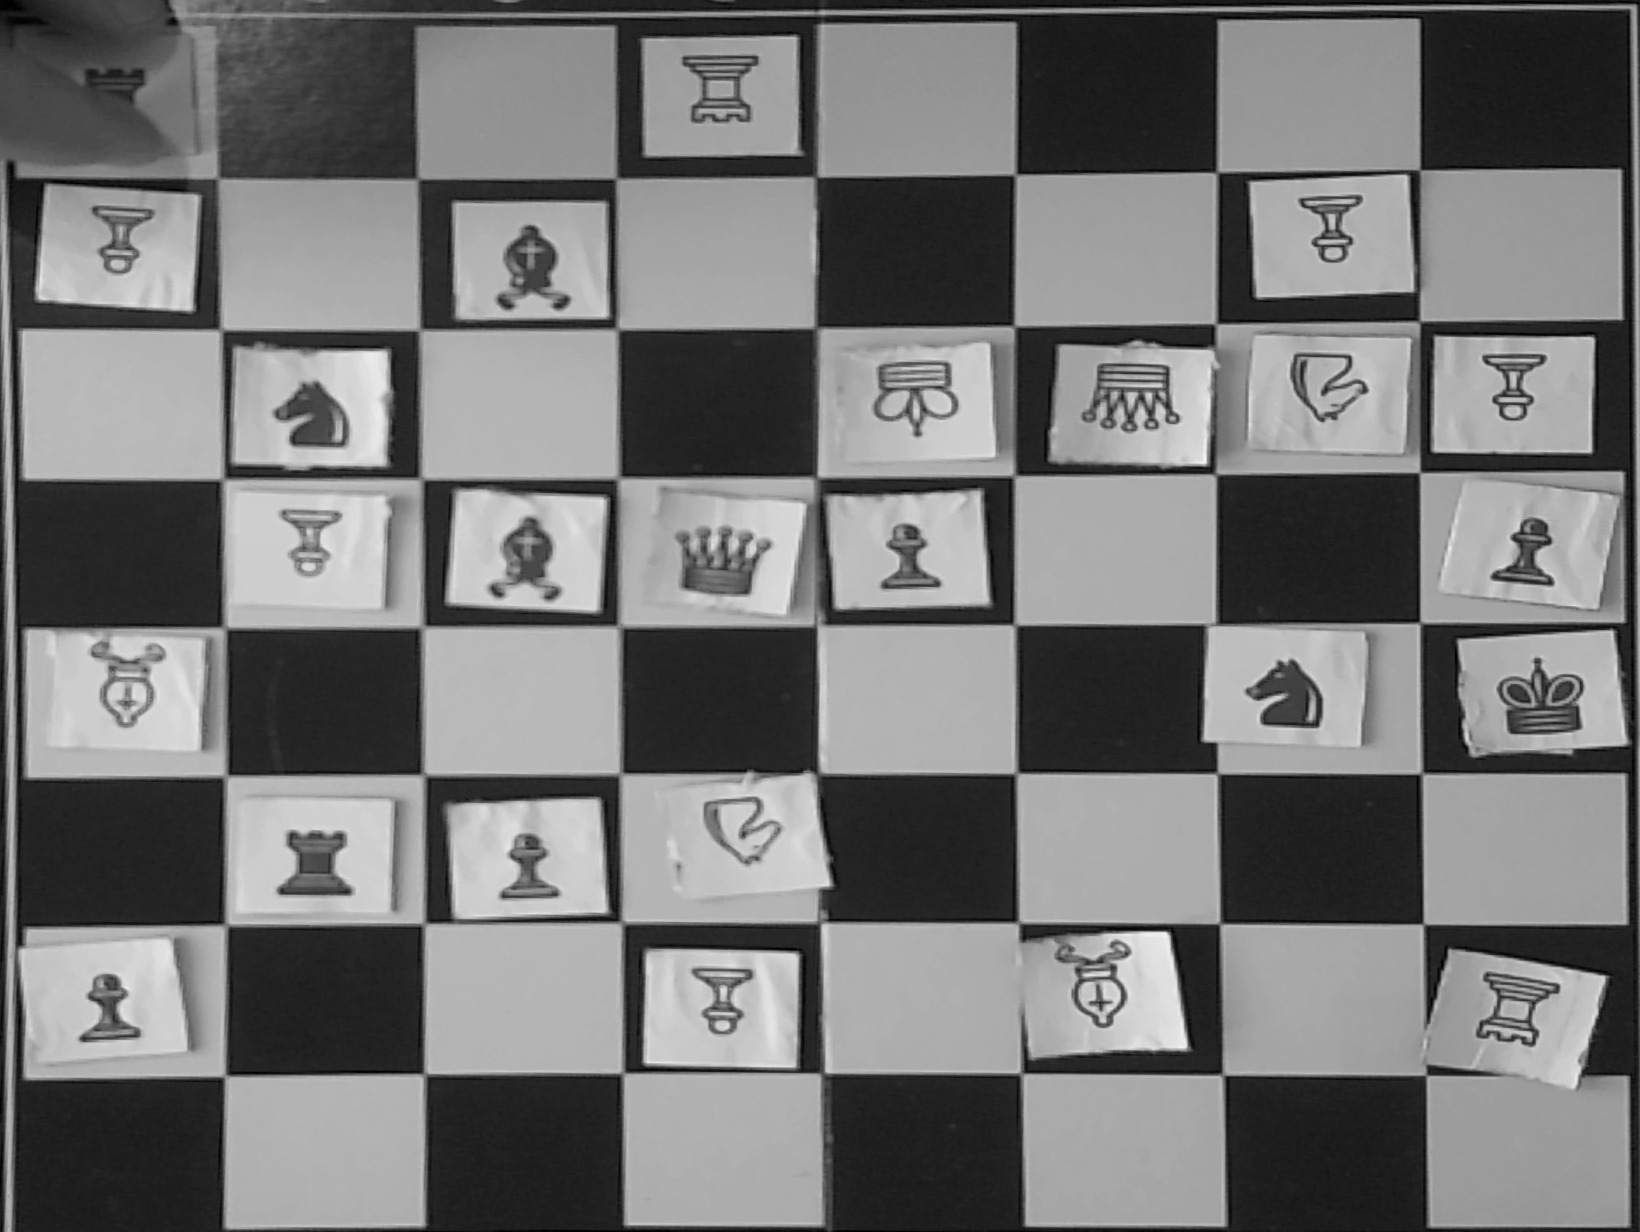b_bishop: (460, 500, 611, 607), (462, 214, 614, 318)
b_king: (1472, 650, 1602, 747)
b_knight: (245, 355, 382, 461), (1213, 632, 1350, 738)
b_pawn: (457, 806, 597, 912), (34, 945, 173, 1051), (839, 501, 979, 606)
b_queen: (667, 502, 781, 608)
b_rook: (245, 791, 381, 902)
w_bishop: (58, 638, 190, 747), (1032, 940, 1164, 1048)
w_king: (827, 347, 982, 452)
w_knight: (670, 783, 809, 888), (1262, 344, 1401, 449)
w_pawn: (238, 498, 371, 602), (658, 952, 791, 1056), (1439, 335, 1564, 436)
w_queen: (1067, 346, 1206, 461)
w_rook: (652, 45, 788, 148), (1439, 962, 1575, 1062)
